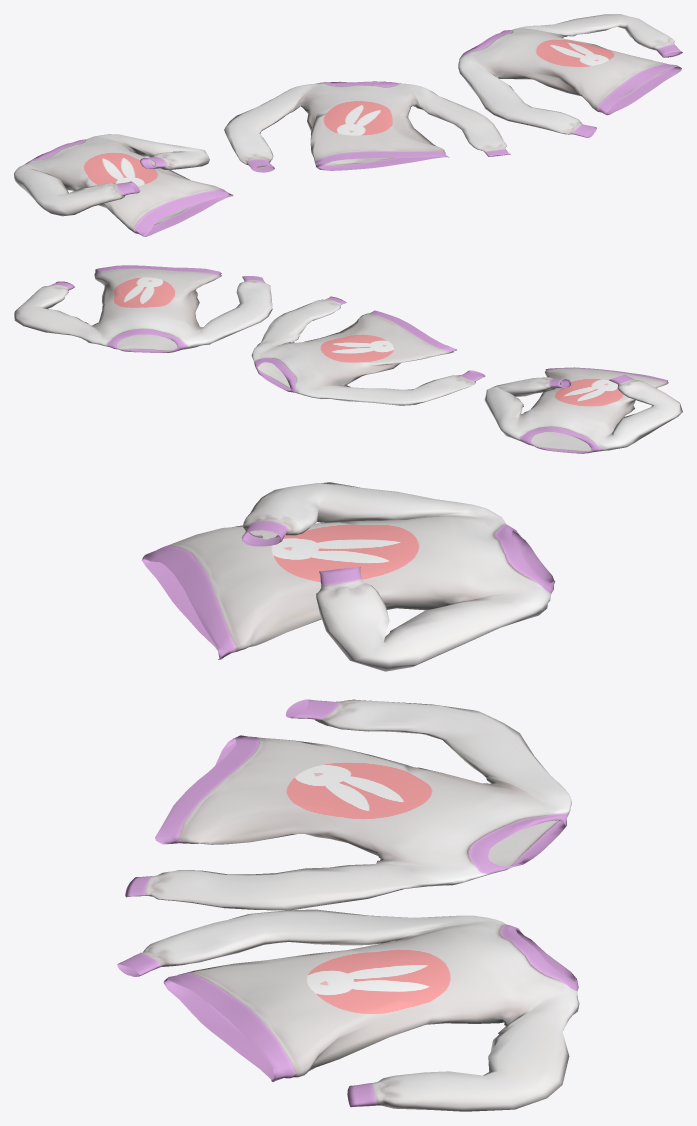
The model's file is coats2.FBX.
The picture shows the model from 3 angles, top to bottom: view 1: azimuth 30°, elevation 25°; view 2: azimuth 150°, elevation 25°; view 3: azimuth 270°, elevation 25°; orthographic projection. The views are drawn at different scales.
Visible parts, largest first — view 1: sweater (×3); view 2: sweater (×3); view 3: sweater (×3).
Part boxes in pixels (x1,y1,x2,y2): sweater (×3): (14,14,682,236); sweater (×3): (14,265,682,453); sweater (×3): (117,482,579,1111).
Size of the model in its own units: 3.89 by 0.1586 by 1.26.
